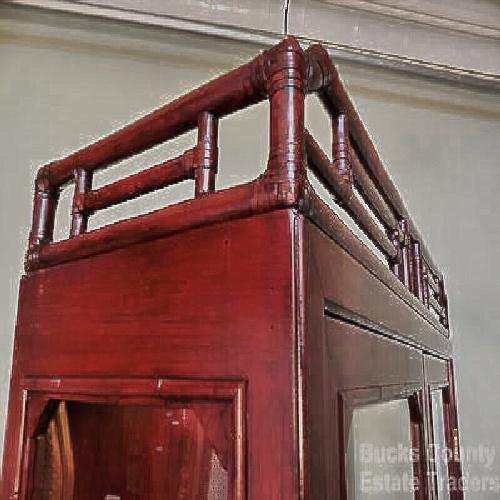cabinet: (29, 96, 472, 473)
